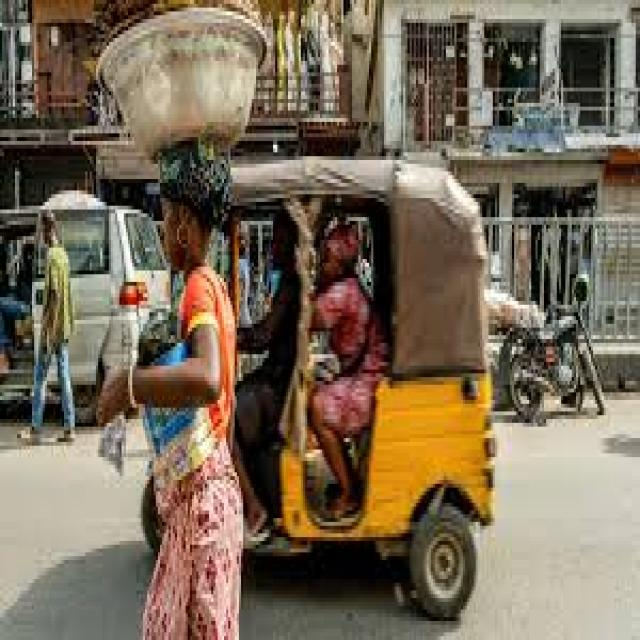motorcycle: (499, 278, 602, 423)
person: (98, 141, 241, 640), (309, 225, 382, 518), (235, 210, 297, 549), (30, 213, 73, 442)
three wheeler: (211, 160, 495, 617)
van: (32, 190, 169, 392)
